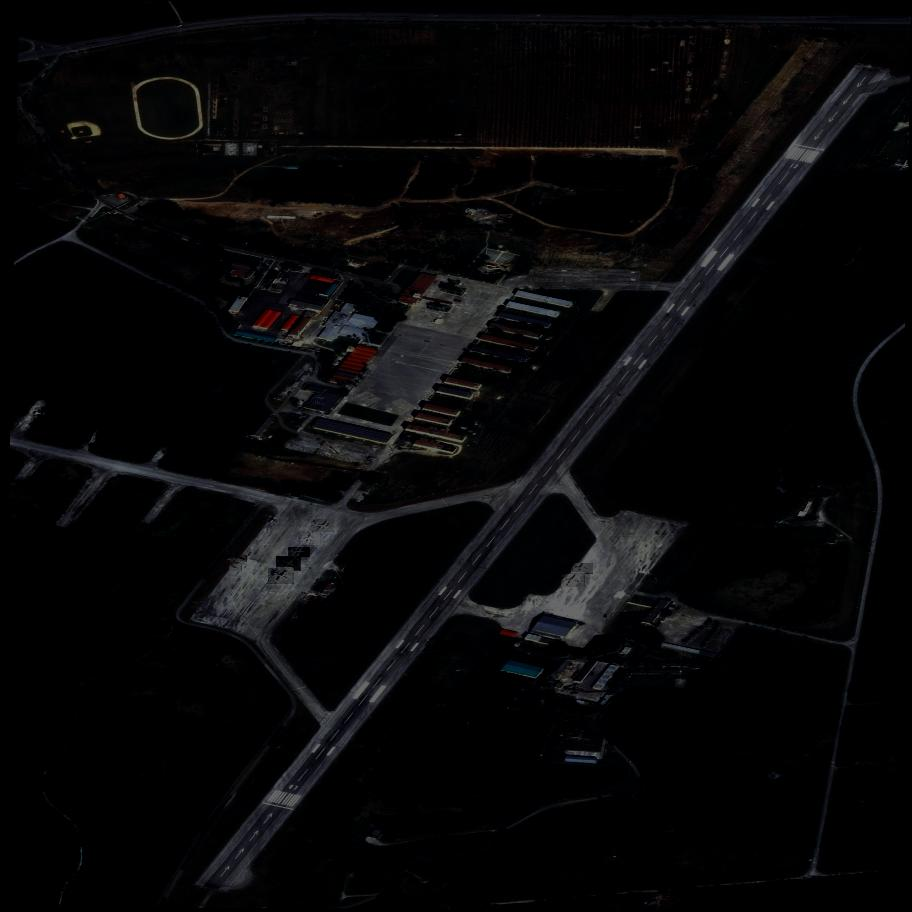plane: (269, 566, 294, 587), (276, 555, 301, 573), (311, 518, 334, 535), (561, 573, 585, 588), (571, 563, 593, 573), (289, 547, 310, 557), (301, 534, 320, 545), (230, 563, 242, 572), (235, 555, 247, 562), (230, 561, 244, 565)
